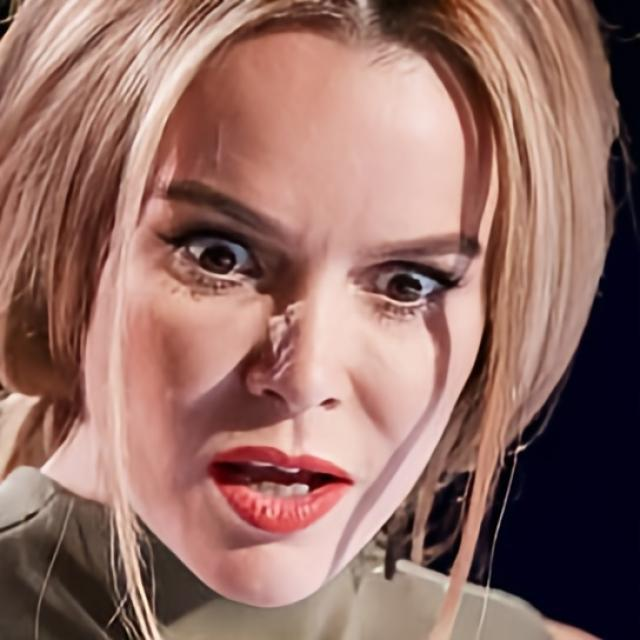anger: (82, 41, 487, 610)
